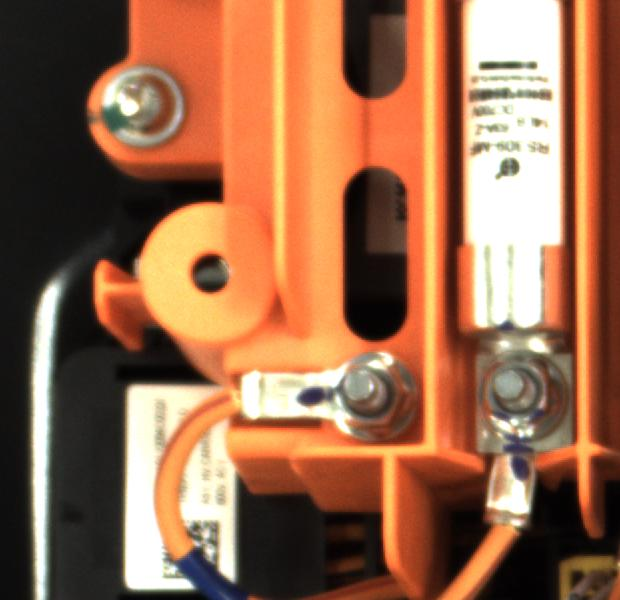screw_m: (83, 56, 205, 158)
screw_s: (464, 346, 571, 451), (319, 347, 419, 444)
